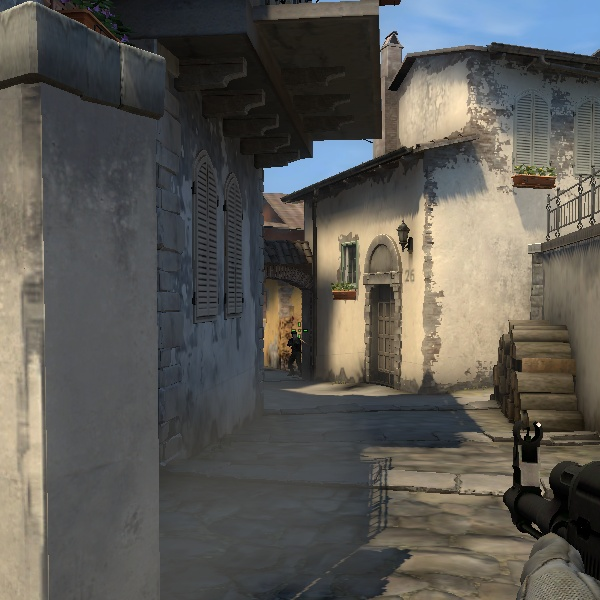t_body: (280, 327, 304, 372)
